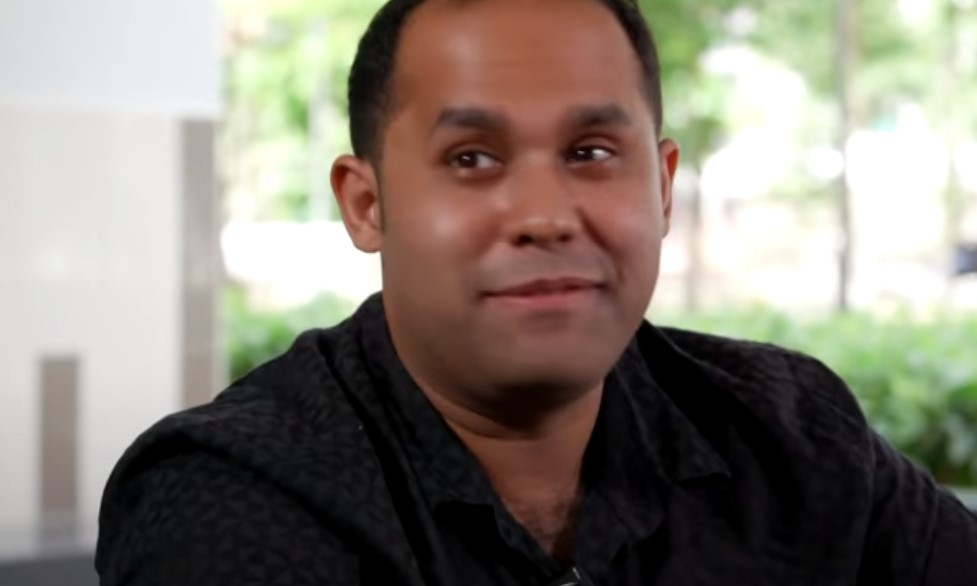face_no_mask: (344, 8, 681, 427)
